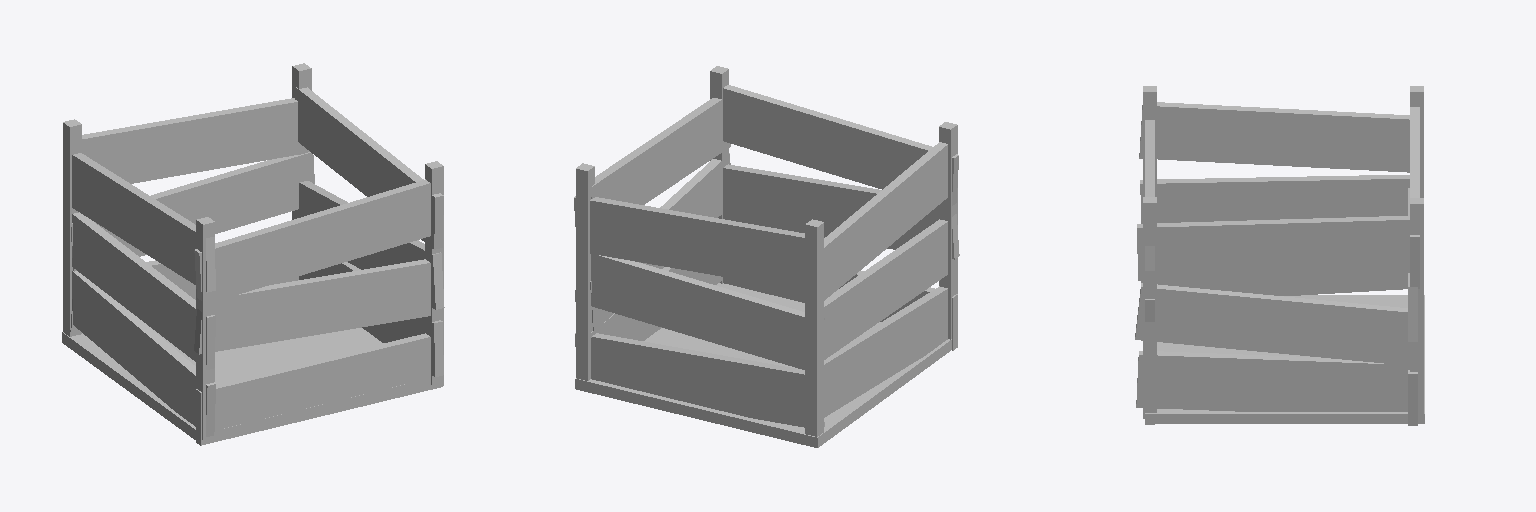
The model's file is crate.obj.
The picture shows the model from 3 angles: view 1: azimuth 30°, elevation 25°; view 2: azimuth 150°, elevation 25°; view 3: azimuth 270°, elevation 25°; orthographic projection.
Parts seen in each view (by area): view 1: Crate_Cube.007; view 2: Crate_Cube.007; view 3: Crate_Cube.007.
Part boxes in pixels (bbox=[...]): Crate_Cube.007: bbox=[62, 63, 444, 445]; Crate_Cube.007: bbox=[574, 66, 959, 447]; Crate_Cube.007: bbox=[1135, 86, 1424, 425].
Size of the model in its own units: 2.24 by 1.91 by 2.26.